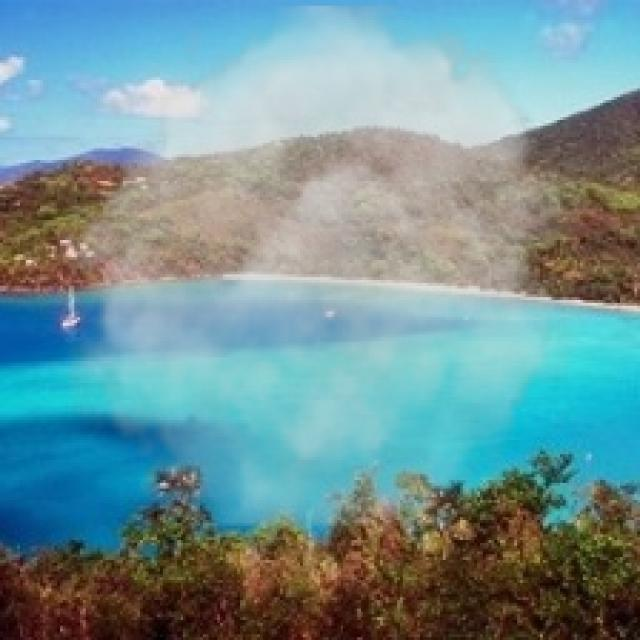smoke: (49, 6, 592, 526)
